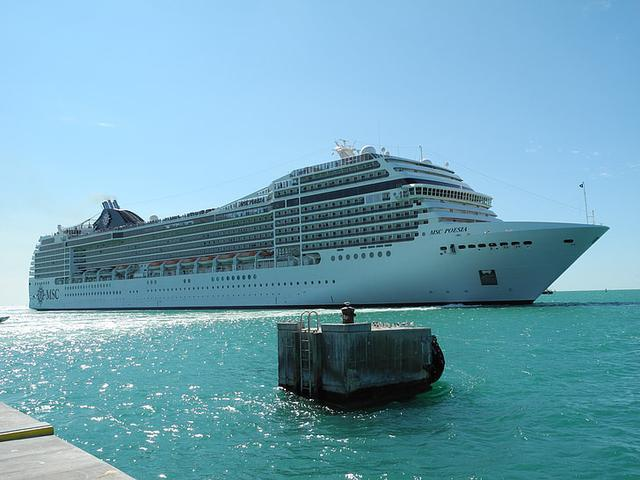youlun: (25, 141, 610, 317)
